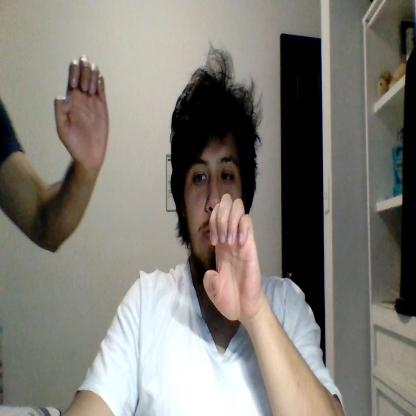E: (204, 193, 260, 322), (54, 53, 110, 171)
